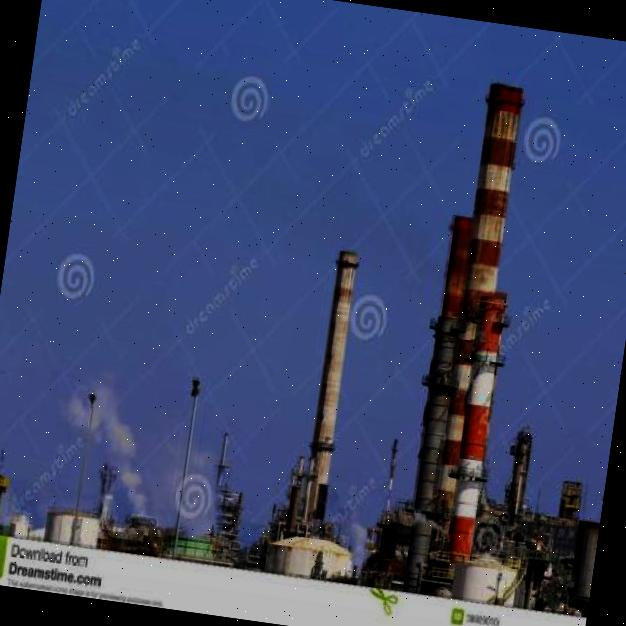smoke: (51, 374, 181, 529)
